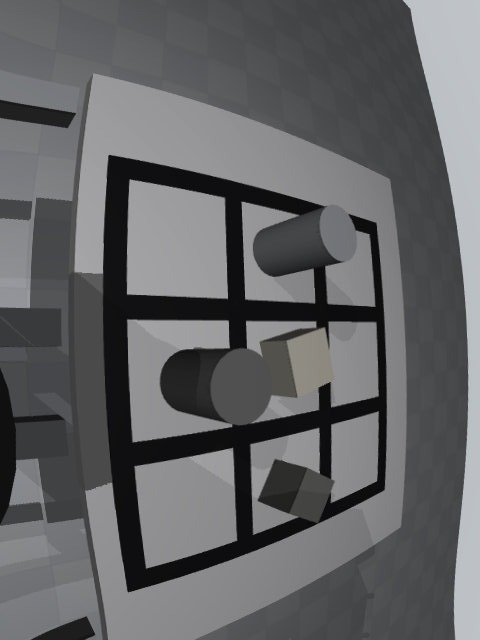can: (253, 205, 357, 277)
cube: (258, 460, 335, 523)
cylinder: (160, 348, 273, 425)
foam: (259, 327, 335, 398)
